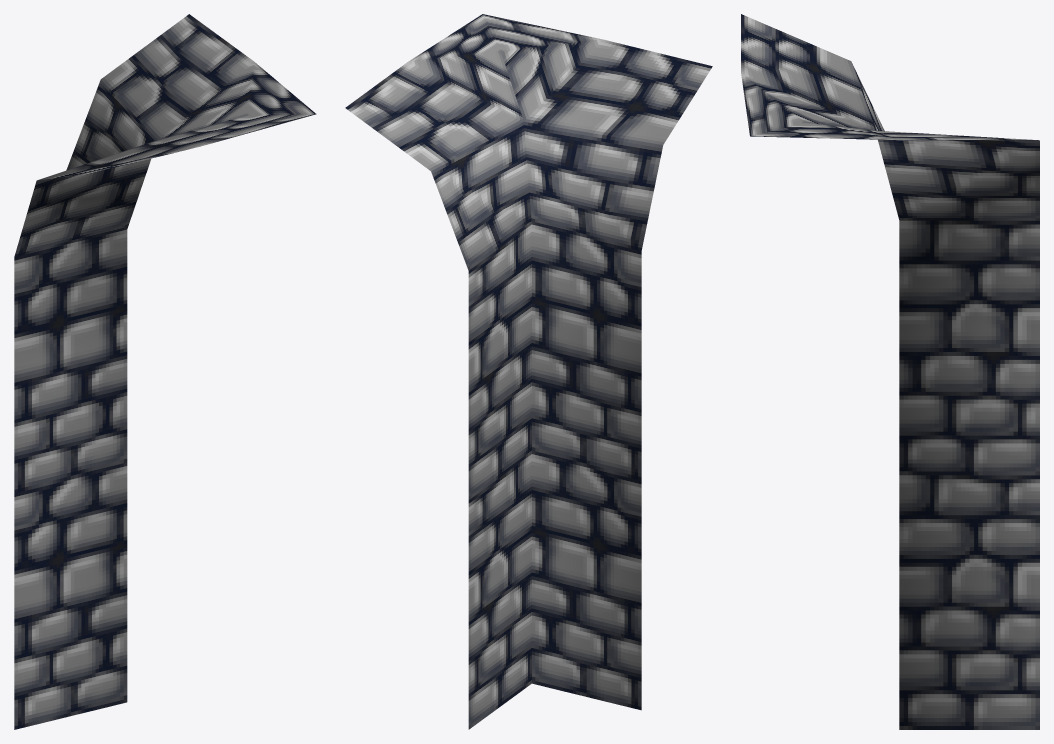
File: MurAngleExt.glb
3 renders of one model, left to right at view 1: azimuth 30°, elevation 25°; view 2: azimuth 150°, elevation 25°; view 3: azimuth 270°, elevation 25°, orthographic. The views are drawn at different scales.
Visible parts, largest first — view 1: Mur.002; view 2: Mur.002; view 3: Mur.002.
Boxes of the visible parts, <box> form: Mur.002: <box>14,14,316,729</box>; Mur.002: <box>345,14,712,729</box>; Mur.002: <box>741,14,1039,729</box>.
Size of the model in its own units: 2.13 by 5.16 by 2.13.
Materials: 1 (1 with a texture image).
